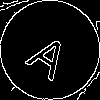A: (25, 25, 79, 82)
